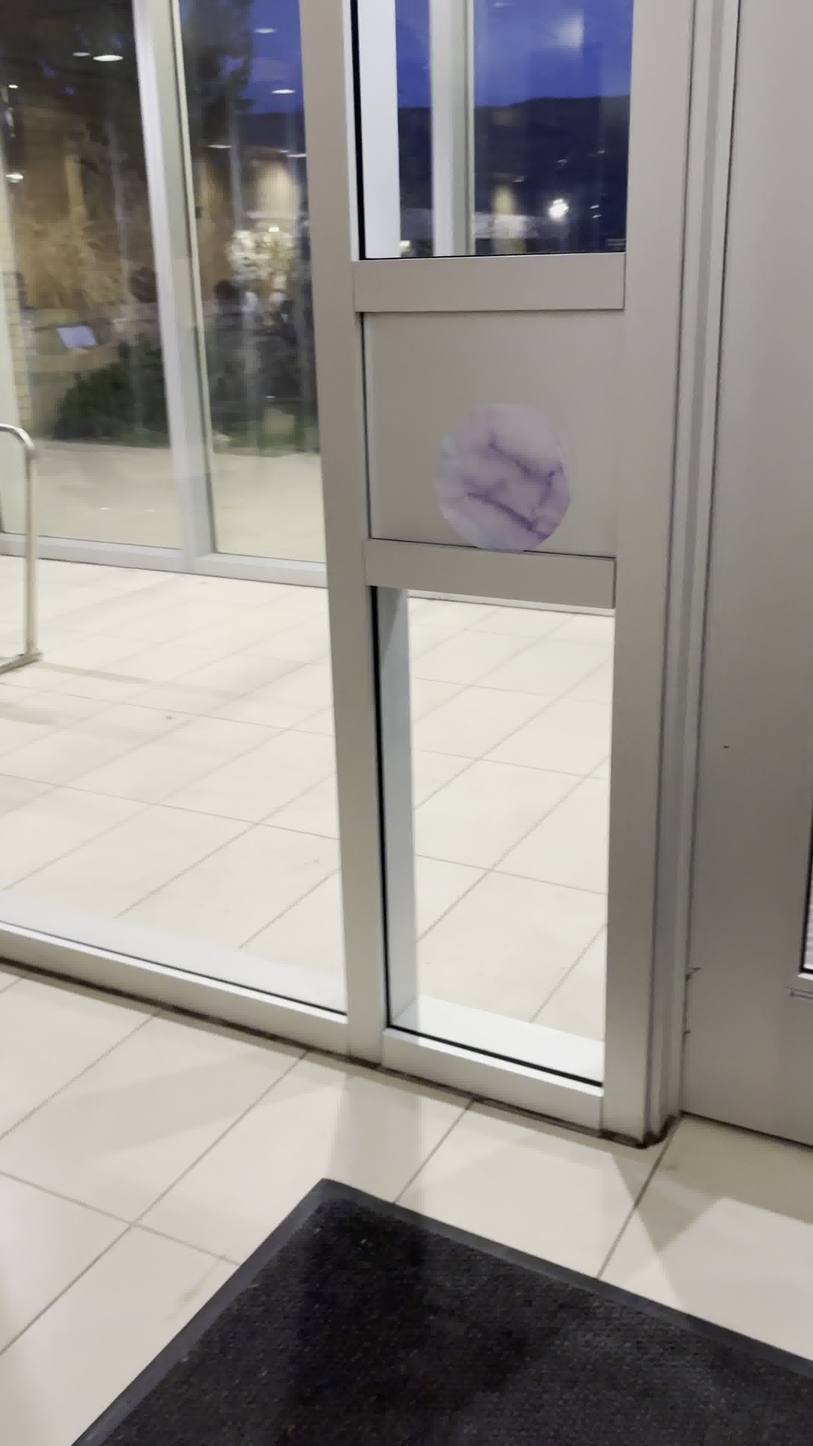Target: (428, 401, 576, 554)
